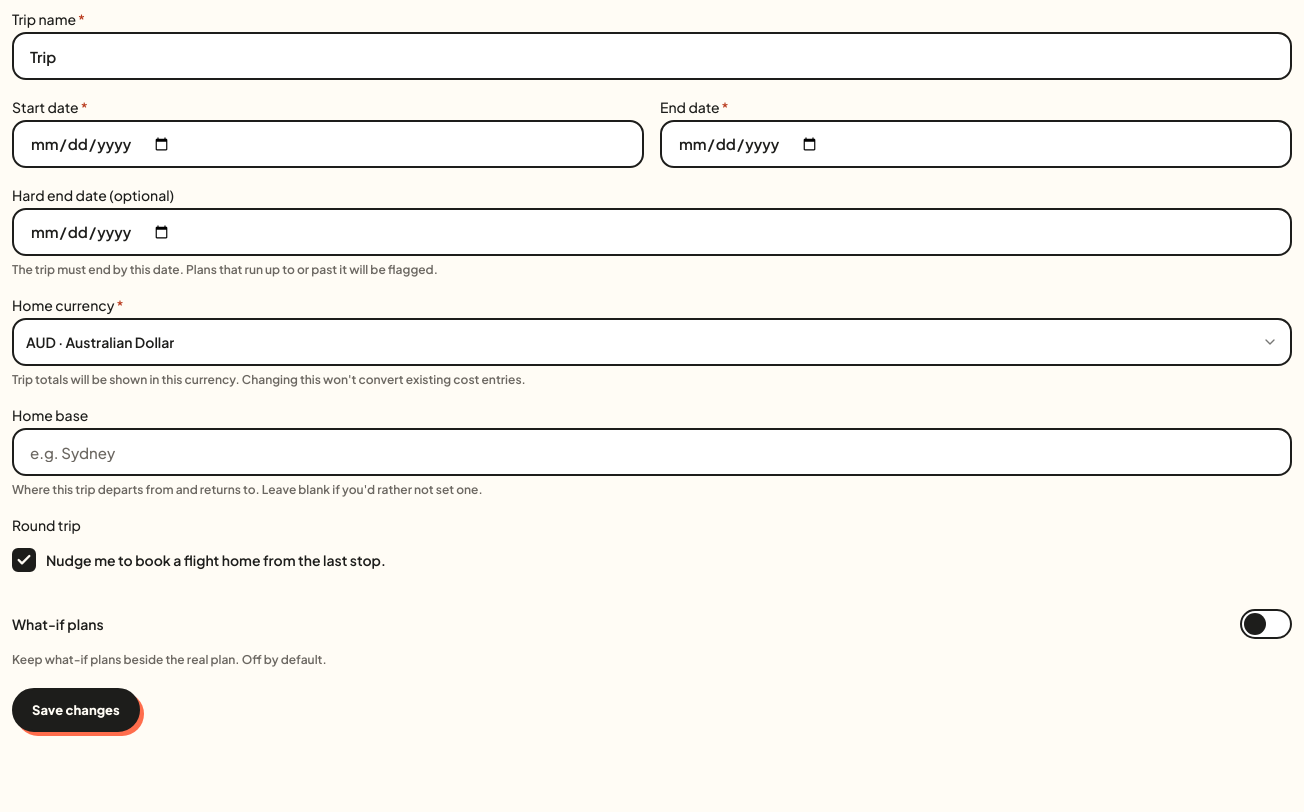
Test: TripDetailsForm › Plan variants switch › reverts the switch and shows the error when the action fails
The width and height of the screenshot is (1304, 812).
Click the switch named "what-if plans".
click(1266, 624)  # box [1240,609,1292,639]
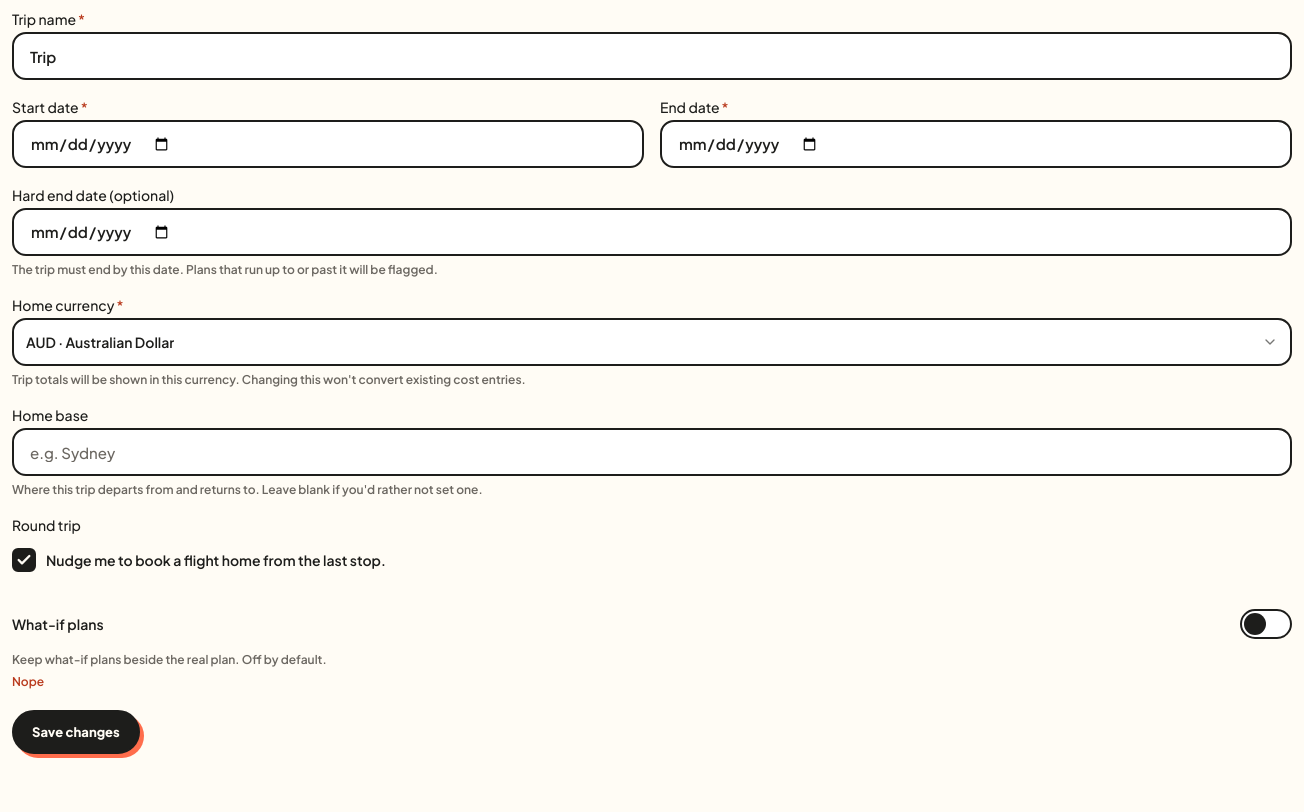
Expected: the text "Nope" is shown, [12,674,44,689]
